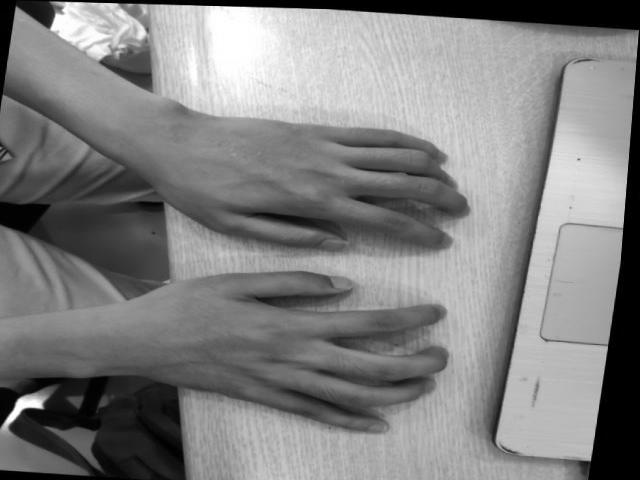not-gloved: (159, 270, 453, 434), (173, 118, 470, 253)
